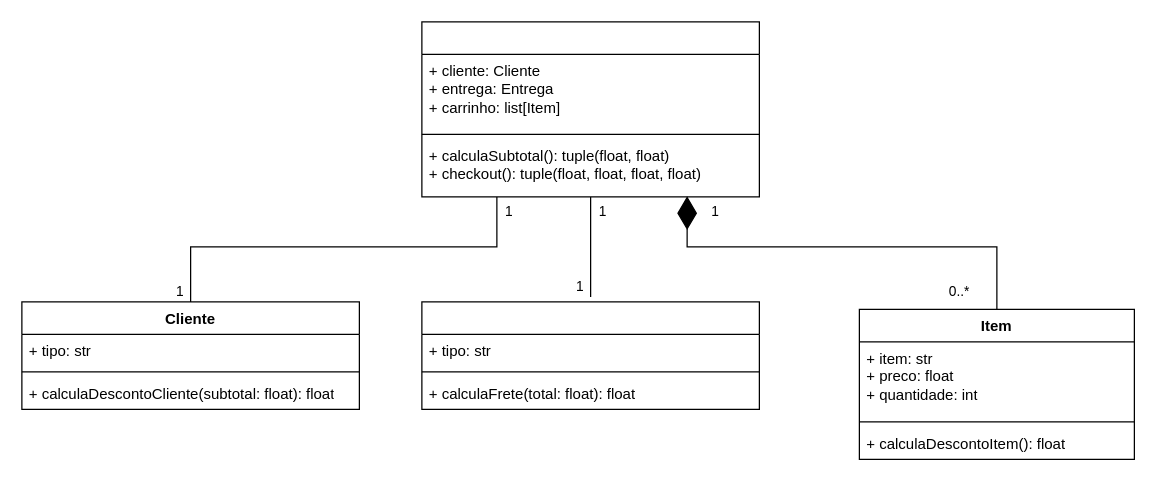
Some shapes in this 1156 by 485 pixel diagram are drawn without their labels. The shapes that lost their labels are listed below. From the top down, each one's box as (x1, y1, x2, y2) in pixels, then its label:
(421, 21, 759, 197): Pedido
(421, 301, 759, 409): Entrega
